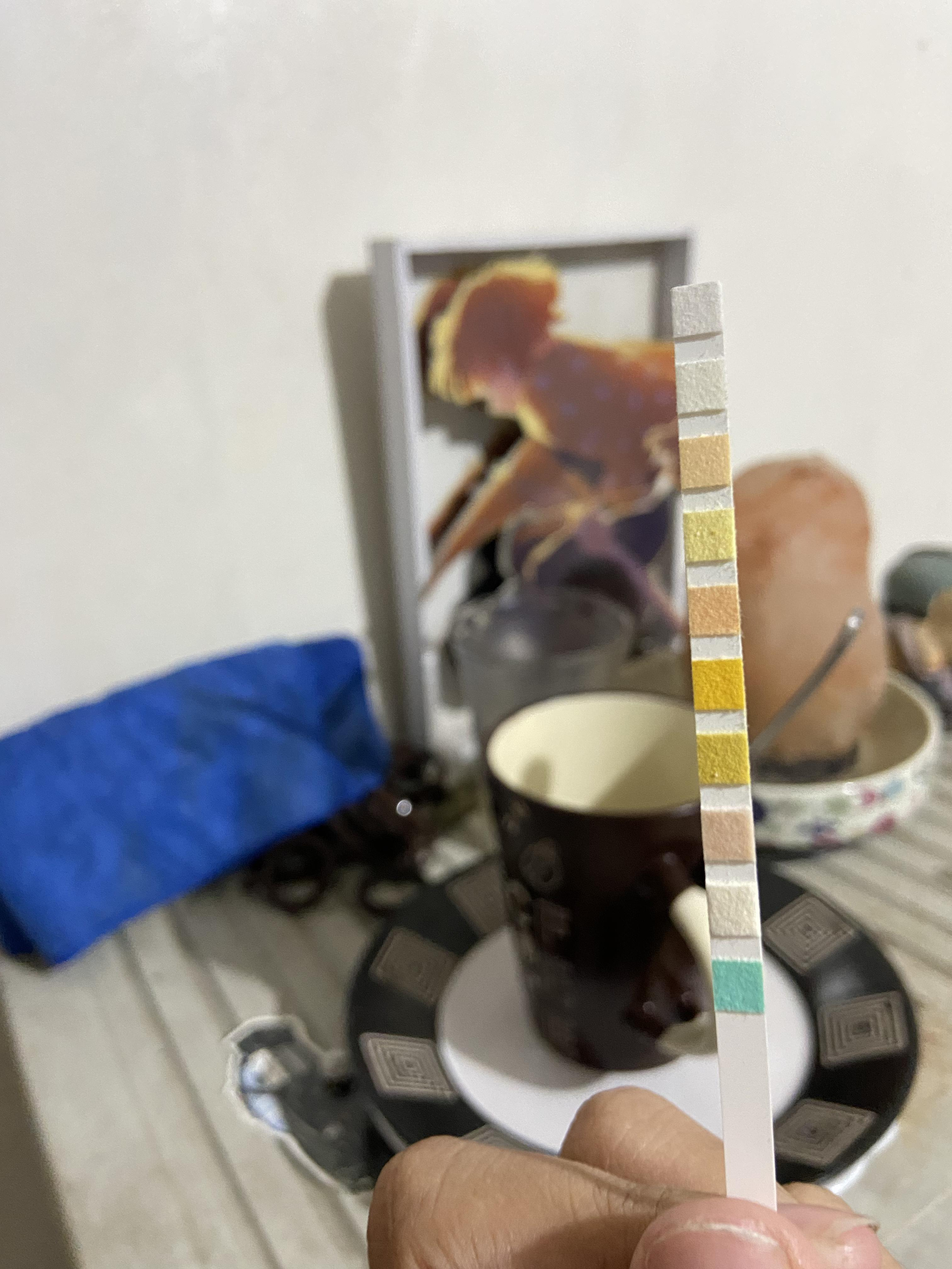Bilirubin: (712, 888, 753, 932)
Blood: (697, 664, 740, 710)
Glucose: (718, 962, 760, 1011)
Ketone: (707, 812, 749, 860)
Leukocytes: (676, 289, 718, 332)
Nitrite: (680, 365, 722, 408)
Protein: (688, 514, 732, 558)
SpGravity: (702, 735, 745, 783)
Urobilinogen: (682, 441, 729, 483)
pH: (692, 590, 736, 632)
strip: (673, 284, 778, 1194)
